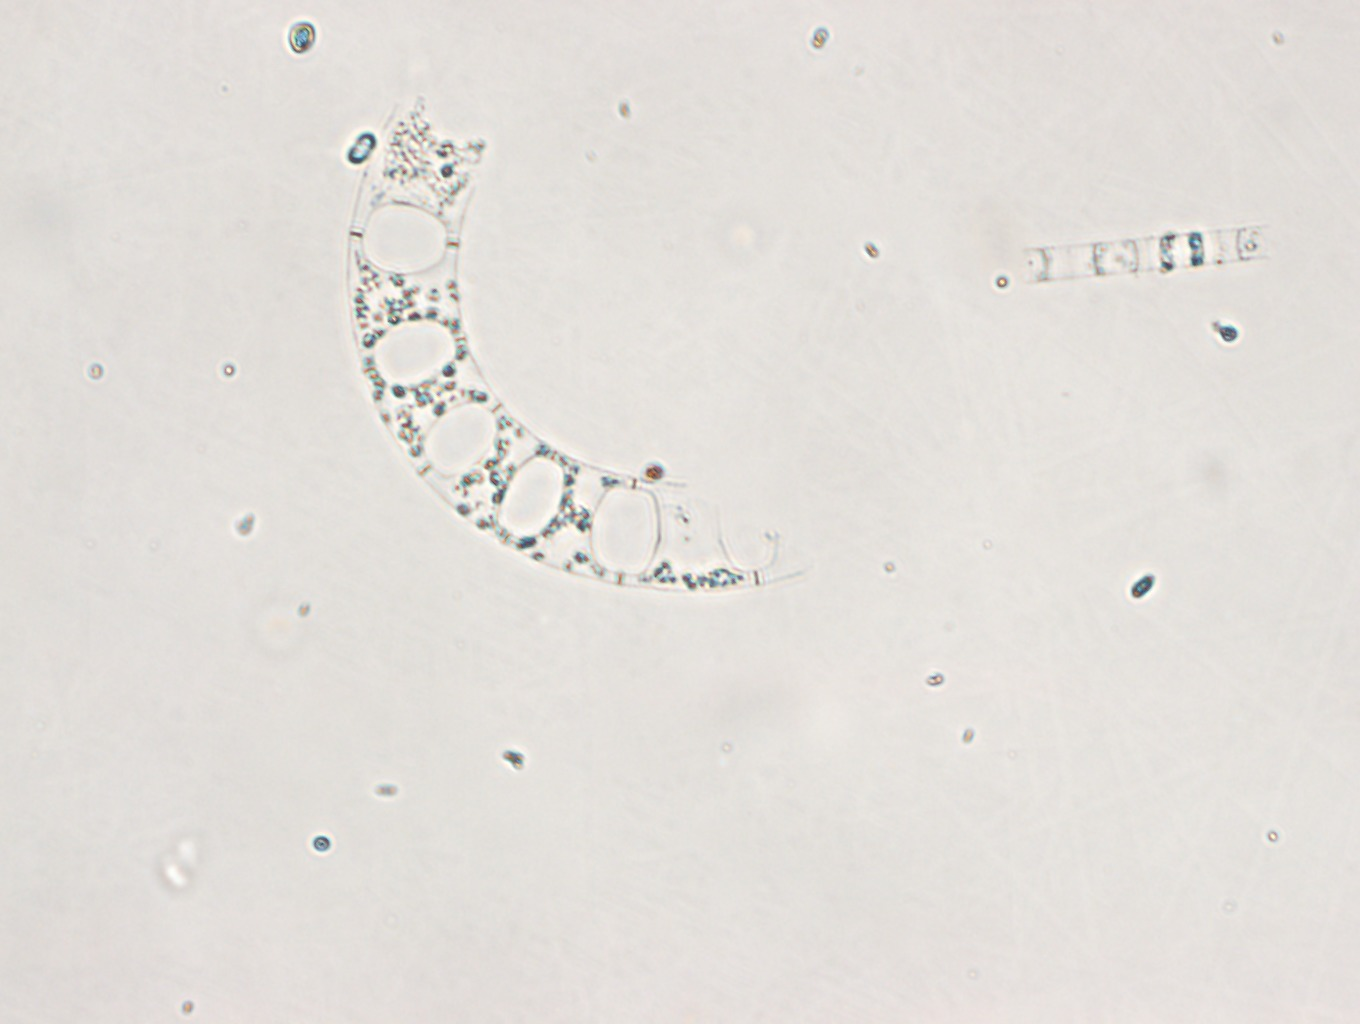eucampia: (344, 93, 817, 591)
skeletonema: (1026, 223, 1268, 288)
